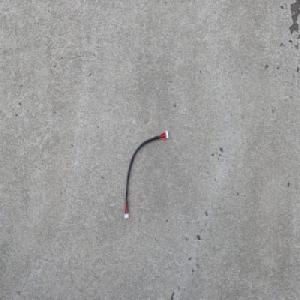Wire: (123, 129, 169, 220)
